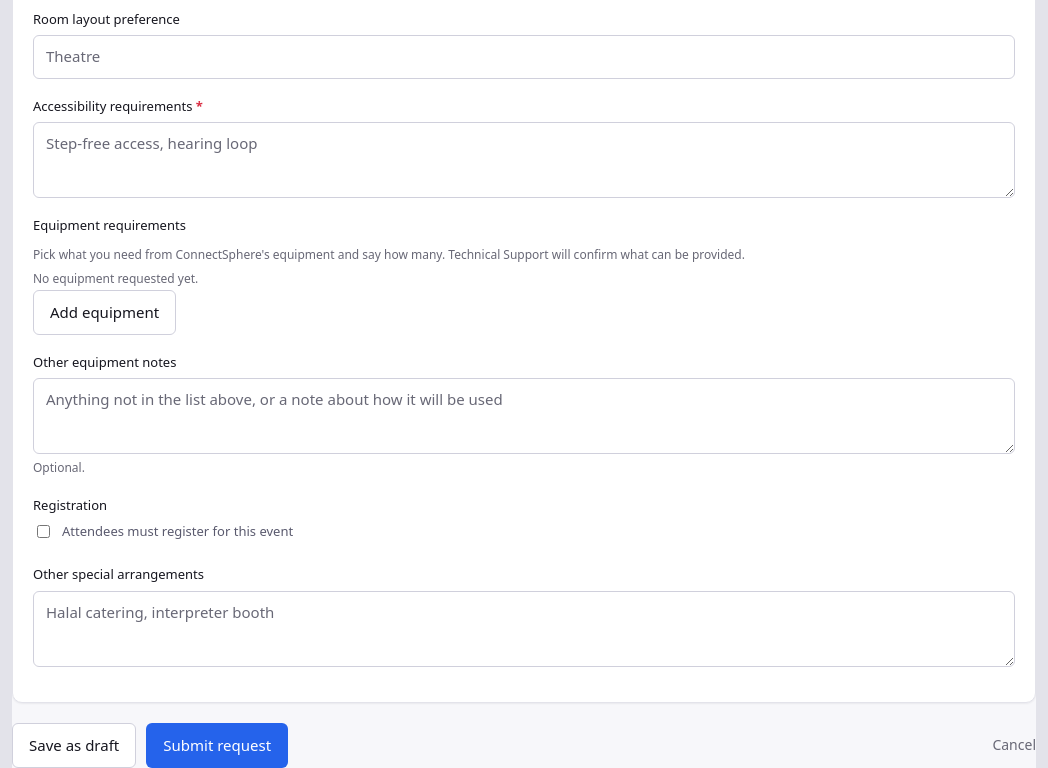
Scenario: Story 2 AC1 - submitting an incomplete request is blocked and the gaps are flagged › TC-S2-1c: marks exactly the fields the server rejected
The image size is (1048, 768).
(page scrolled)
Click the button "Submit request". click: x=217, y=745
box: [146,722,288,767]
(page scrolled)
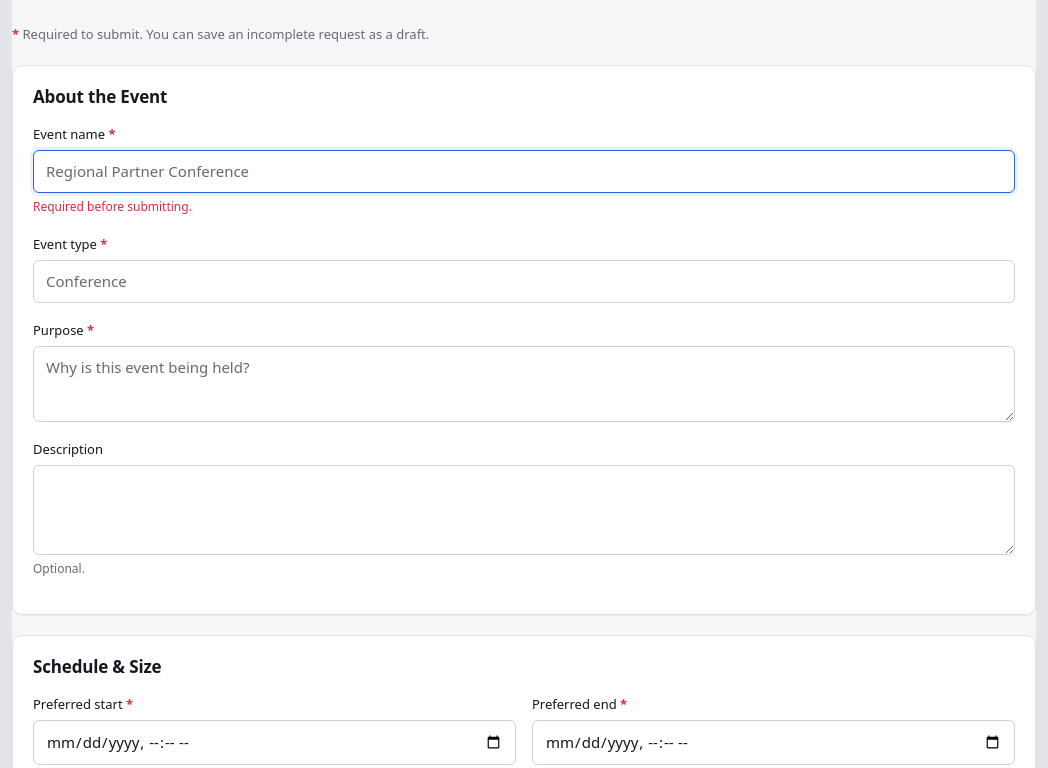
Now the text "Required before submitting." is shown 2 times
